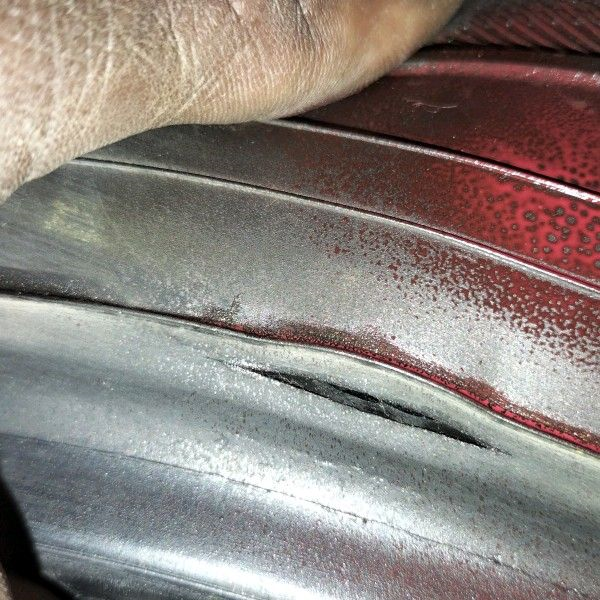cut: (208, 356, 523, 461)
